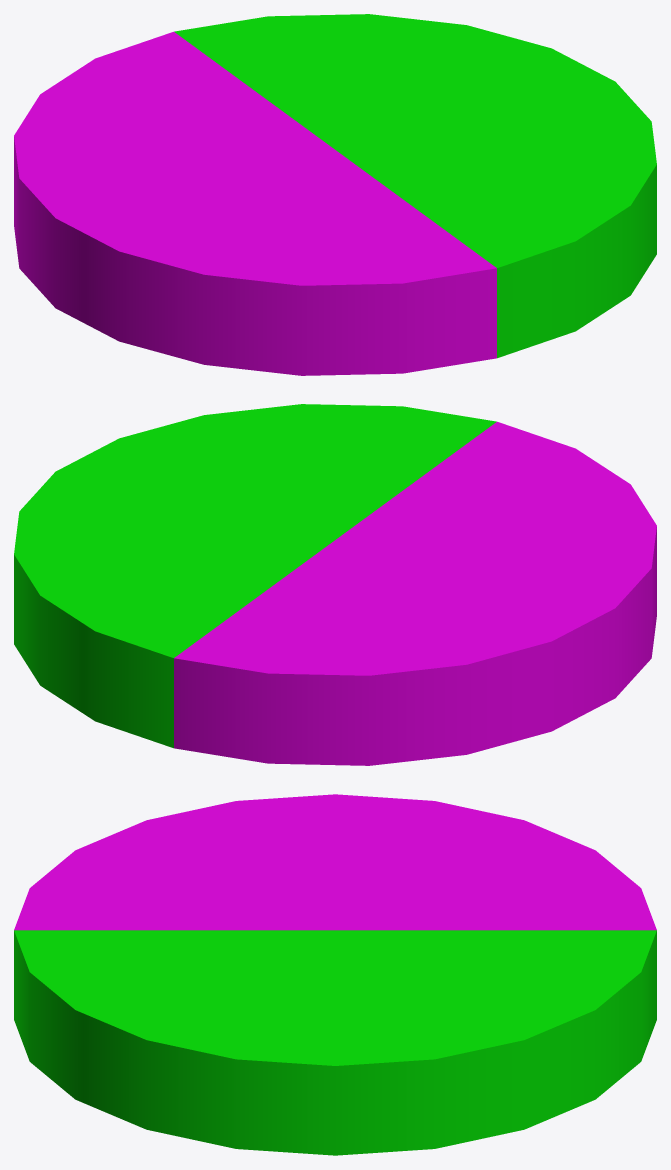
The model's file is 2_renk_pembe_yesil.fbx.
3 views of the same model, one above another, from view 1: azimuth 30°, elevation 25°; view 2: azimuth 150°, elevation 25°; view 3: azimuth 270°, elevation 25° (orthographic).
Visible parts, largest first — view 1: pCylinder13; view 2: pCylinder13; view 3: pCylinder13.
Part boxes in pixels (x1=…): pCylinder13: x1=14, y1=14, x2=656, y2=375; pCylinder13: x1=14, y1=404, x2=656, y2=765; pCylinder13: x1=14, y1=794, x2=656, y2=1155.
Bounding box in the file's own units: 6.28 × 0.9651 × 6.28.
